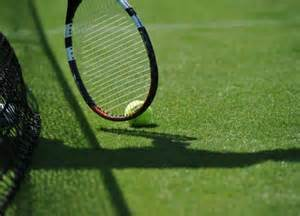tennis_ball: (125, 99, 152, 128)
